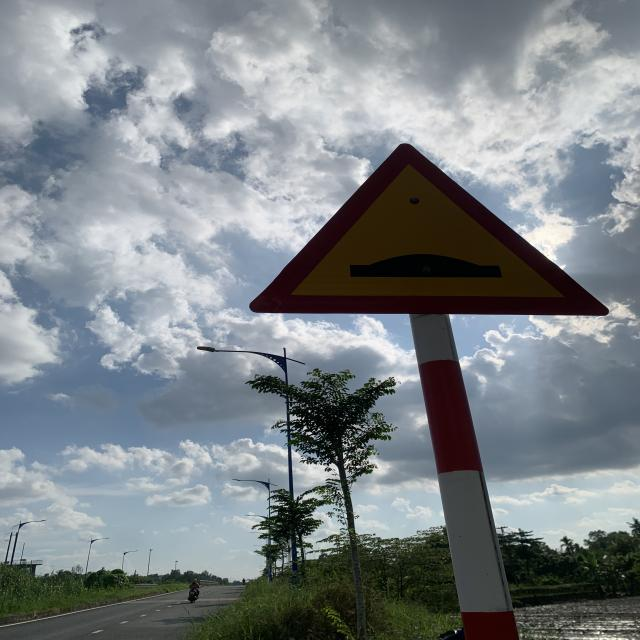Duong_Cong_Ben_Phai: (249, 142, 611, 318)
